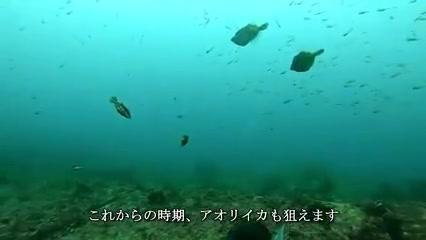kawahagi: (225, 18, 273, 49), (287, 45, 329, 76)
smallfish: (106, 95, 135, 125)
